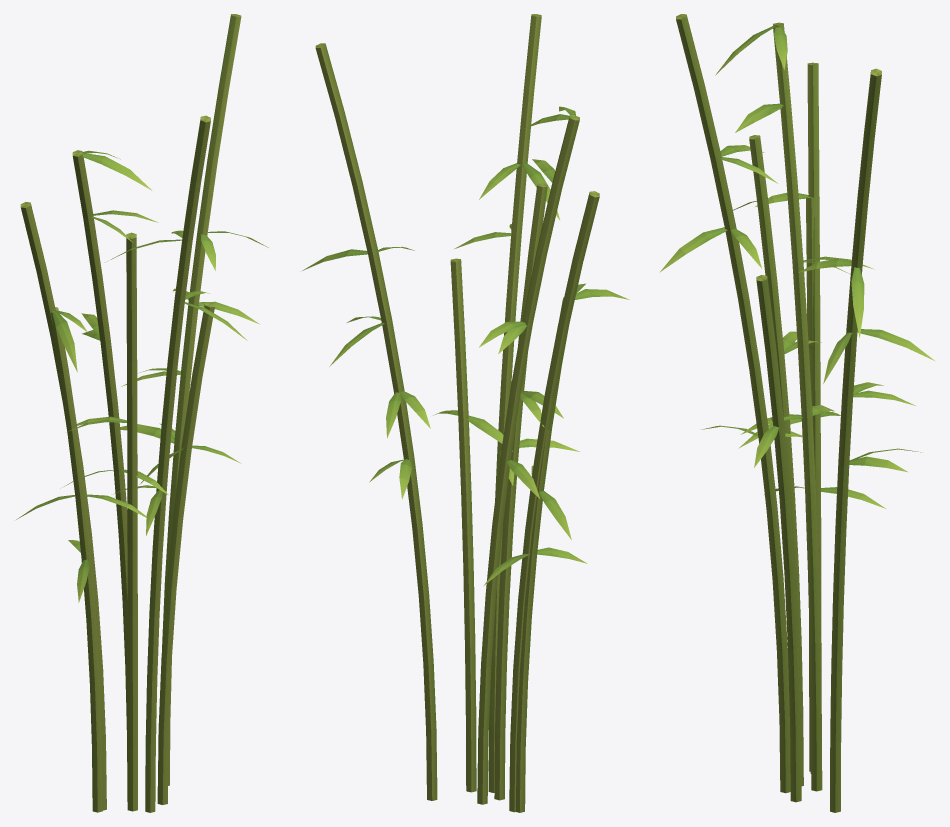
File: bamboo.glb
3 renders of one model, left to right at view 1: azimuth 30°, elevation 25°; view 2: azimuth 150°, elevation 25°; view 3: azimuth 270°, elevation 25°, orthographic. The views are drawn at different scales.
Visible parts, largest first — view 1: bamboo_solid, bamboo_leaf; view 2: bamboo_solid, bamboo_leaf; view 3: bamboo_solid, bamboo_leaf.
Boxes of the visible parts, x1,y1,x2,y2 form: bamboo_solid: [20, 14, 241, 812]; bamboo_leaf: [16, 150, 268, 602]; bamboo_solid: [315, 14, 599, 812]; bamboo_leaf: [302, 106, 629, 585]; bamboo_solid: [676, 14, 881, 812]; bamboo_leaf: [659, 24, 935, 508].
Bounding box in the file's own units: 2.93 × 7.54 × 2.4.
